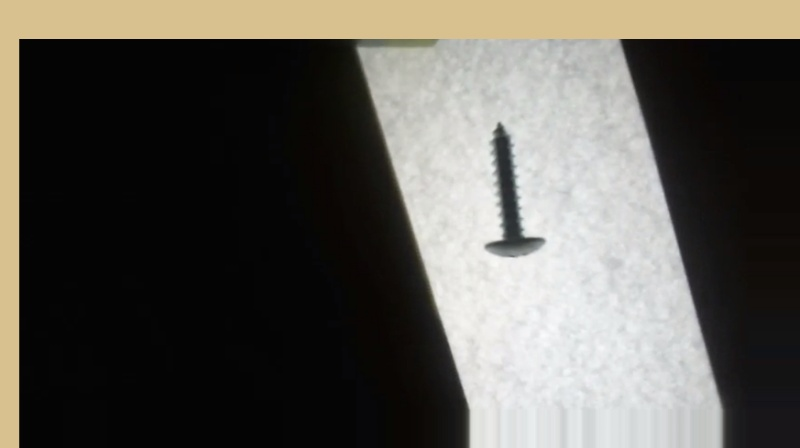S003: (479, 117, 548, 259)
